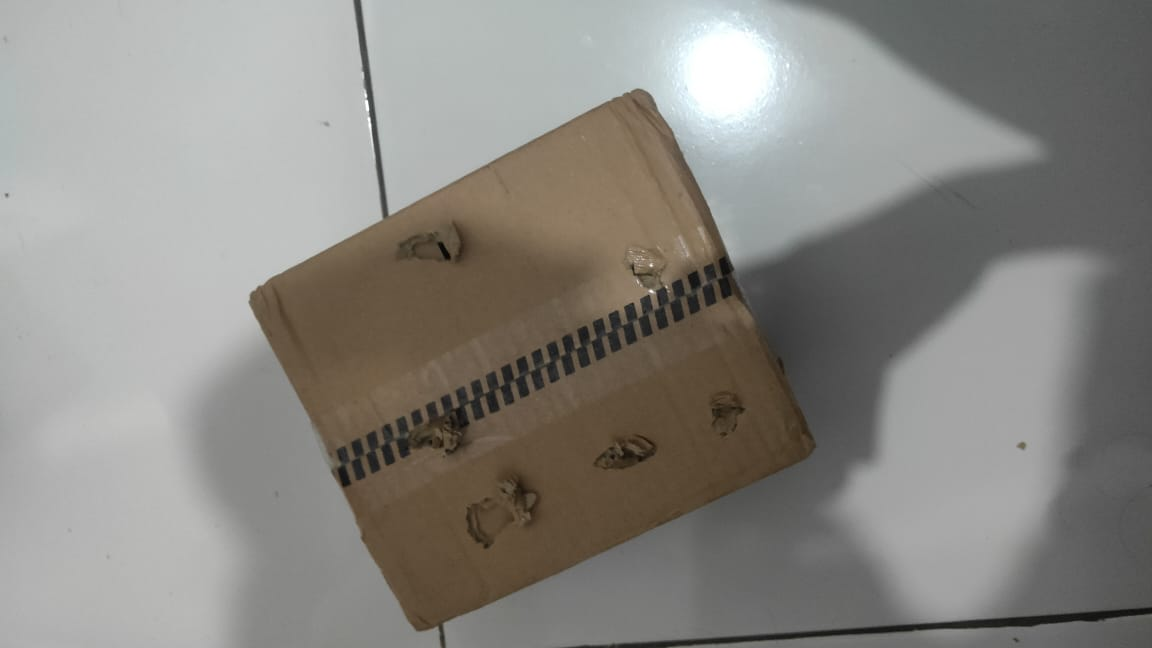damaged package: (460, 470, 536, 553), (586, 428, 664, 477), (388, 225, 464, 271), (403, 405, 472, 455), (625, 237, 666, 298), (706, 388, 748, 439)
undamaged: (246, 93, 817, 637)
